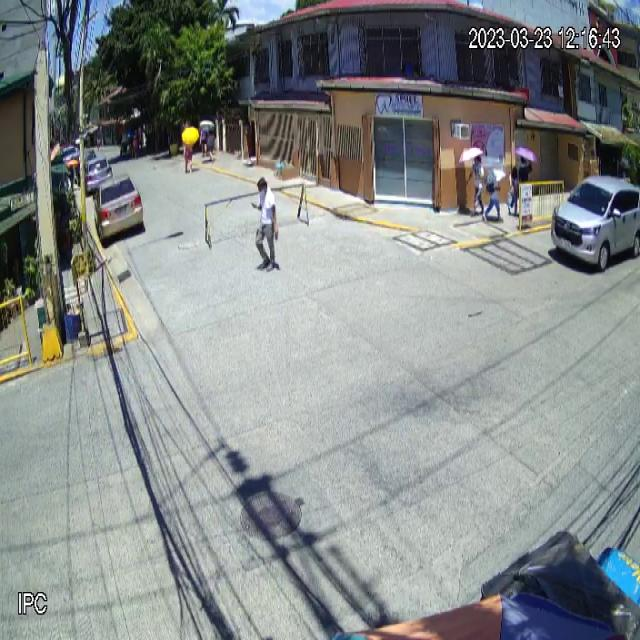Car: (550, 172, 640, 277), (92, 172, 144, 241)
